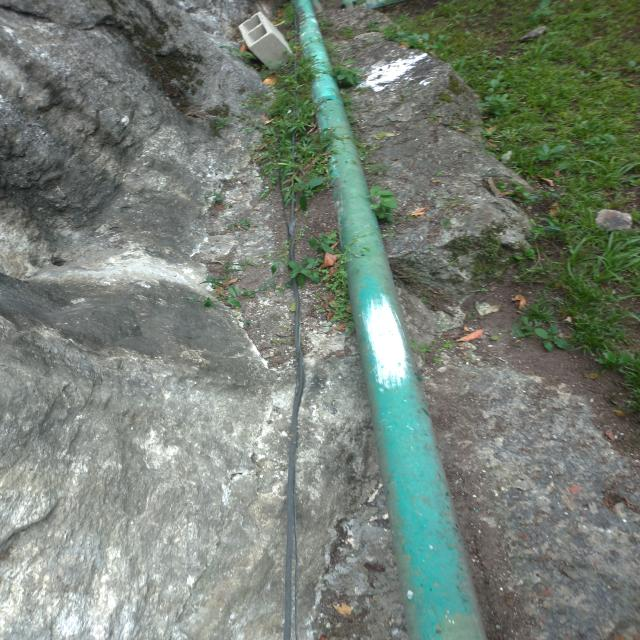gas: (297, 6, 488, 638)
